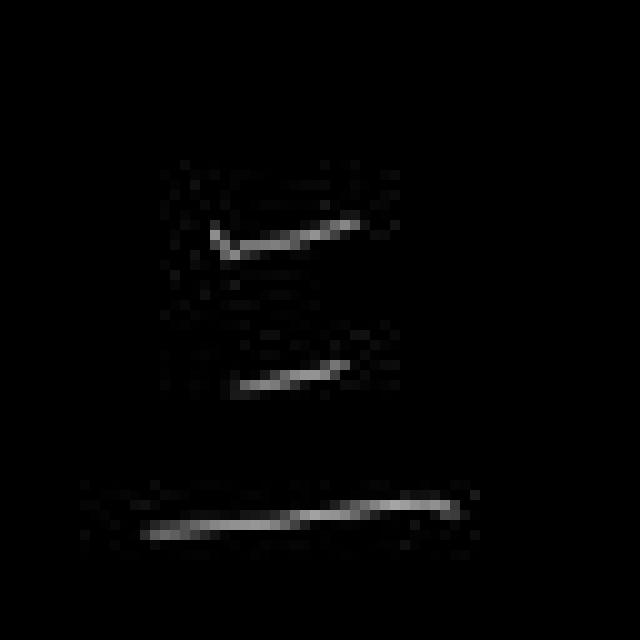3 -three-: (124, 202, 484, 551)
